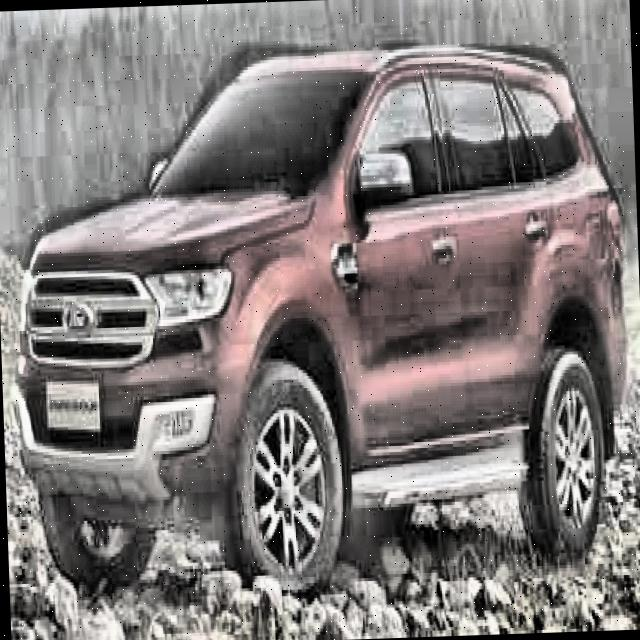license_plate: (44, 377, 102, 434)
